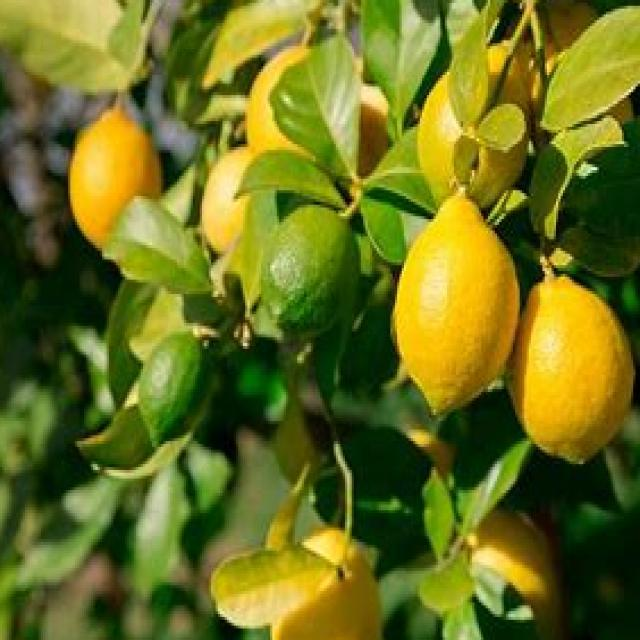lemon: (397, 190, 515, 420), (509, 274, 633, 465)
